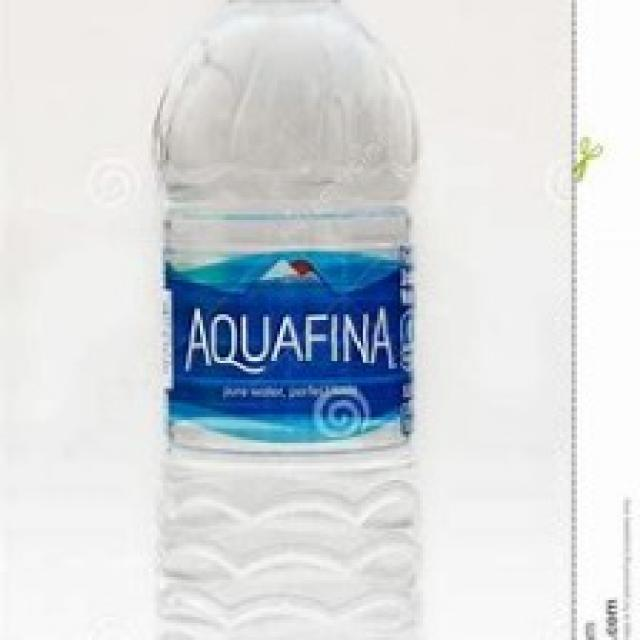plastic_bottle: (140, 2, 428, 640)
